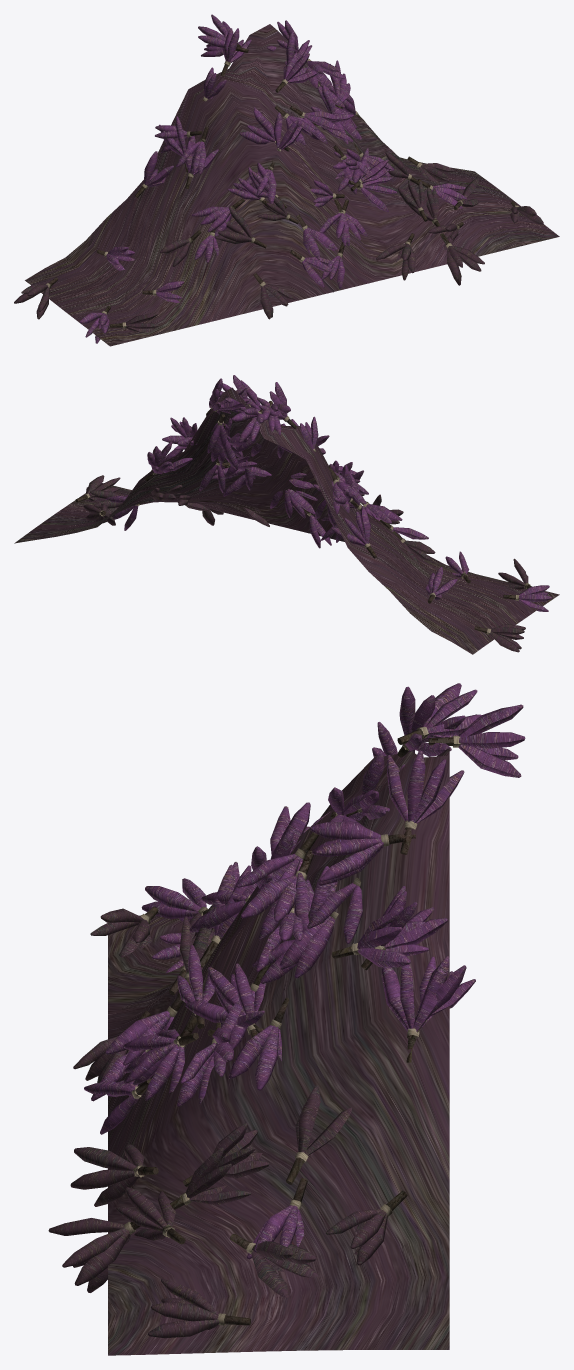
File: kit_lw_heather_heap_p.glb
The picture shows the model from 3 angles, top to bottom: view 1: azimuth 30°, elevation 25°; view 2: azimuth 150°, elevation 25°; view 3: azimuth 270°, elevation 25°; orthographic projection. The views are drawn at different scales.
Visible parts, largest first — view 1: kit_lw_heather_heap_p; view 2: kit_lw_heather_heap_p; view 3: kit_lw_heather_heap_p.
Boxes of the visible parts, <box> form: kit_lw_heather_heap_p: <box>14,14,559,346</box>; kit_lw_heather_heap_p: <box>14,375,559,654</box>; kit_lw_heather_heap_p: <box>48,683,525,1355</box>.
Size of the model in its own units: 4.04 by 1.89 by 1.74.
1 material, 1 textured.
